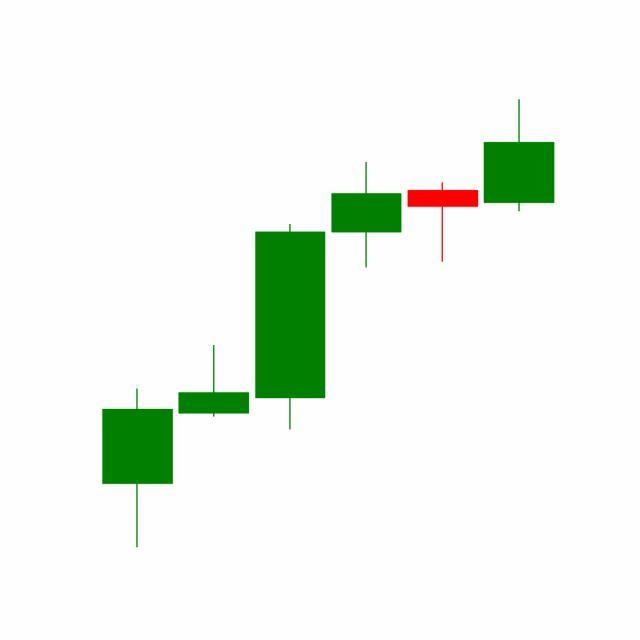Hikkake Pattern: (175, 99, 555, 435)
